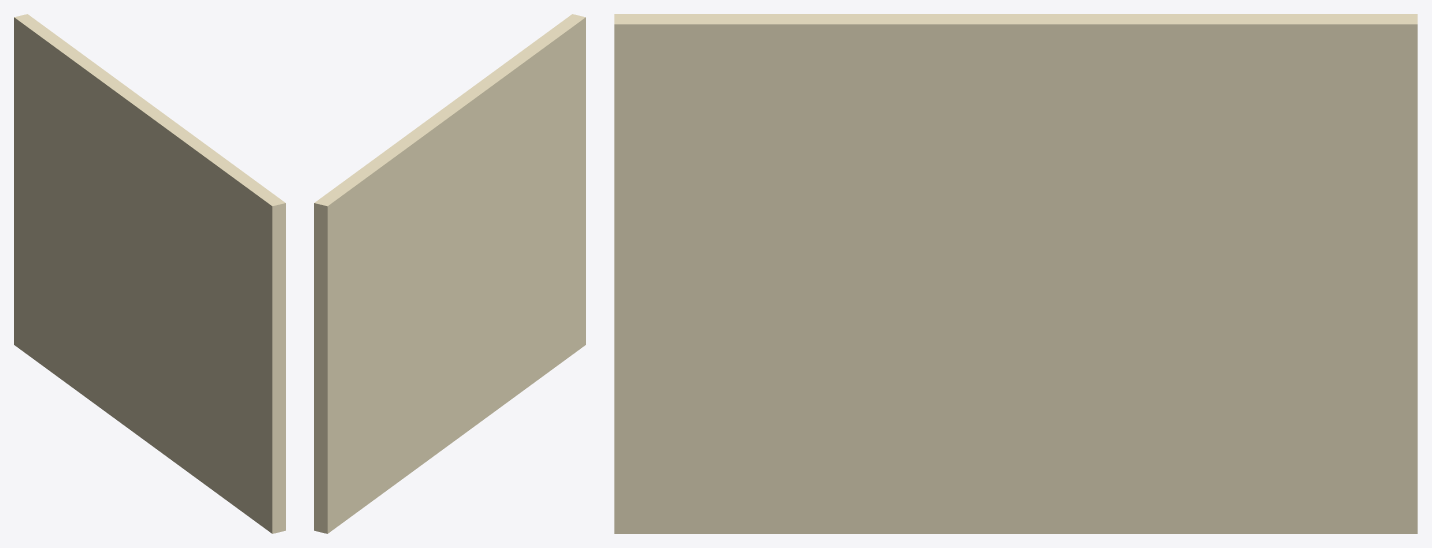
Rendered from west.glb.
3 renders of one model, left to right at view 1: azimuth 30°, elevation 25°; view 2: azimuth 150°, elevation 25°; view 3: azimuth 270°, elevation 25°, orthographic. The views are drawn at different scales.
Parts seen in each view (by area): view 1: west; view 2: west; view 3: west.
Boxes of the visible parts, x1,y1,x2,y2 form: west: [14, 14, 285, 533]; west: [314, 14, 585, 533]; west: [614, 14, 1417, 533].
Size of the model in its own units: 0.12 by 2.8 by 4.
Materials: 1 (1 with a texture image).
